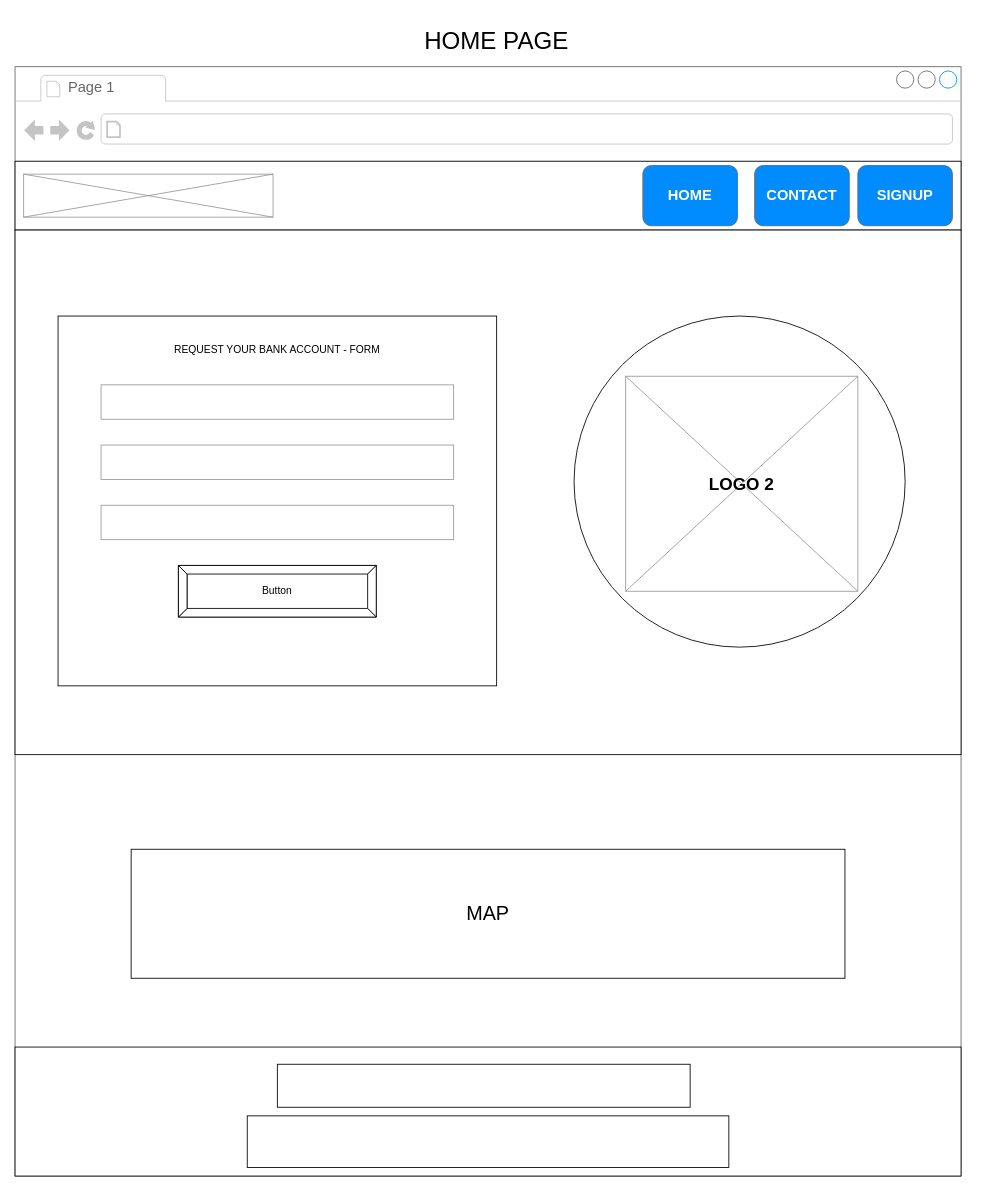
This 985x1191 diagram has some shape labels left out. The centre of each missing label's shape, as x and y in pixels:
BANK'S SOCIAL MEDIA LINKS: the point at 487,1141
https://www.draw.io: the point at 234,129
INSTITUTIONAL INFORMATION: the point at 483,1085
LOGO: the point at 148,195
